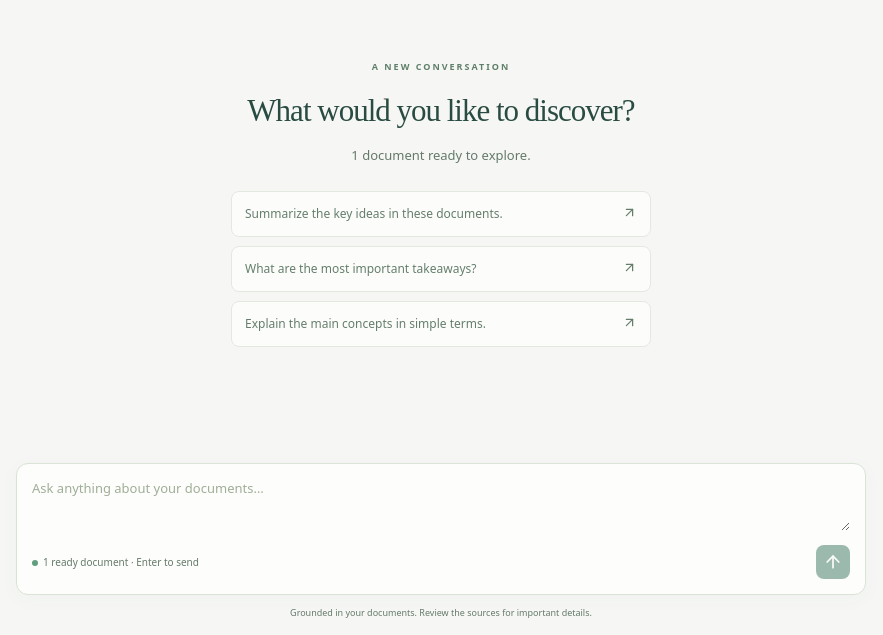
Test: shows generation failure without completion or validated sources
The width and height of the screenshot is (883, 635).
Expected: the heading "What would you like to discover?" is shown, [247,93,635,128]
Type "Explain" into the text box named "Ask your documents".
click(441, 505); type("Explain")  # box [32,479,850,531]
Then press Enter
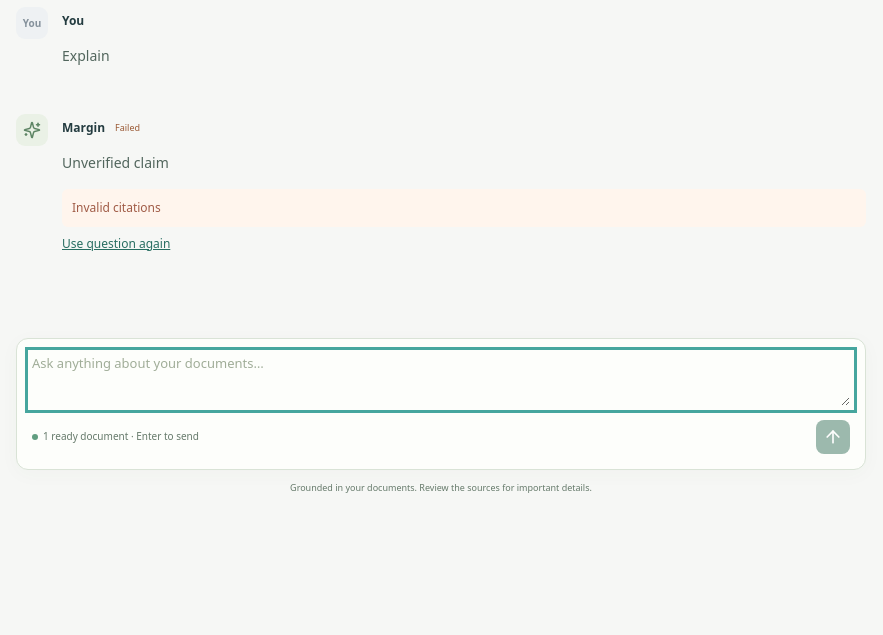
Result: the text "Invalid citations" is shown at [62,189,866,227]
Result: the text "failed" is shown at [115,121,140,135]
